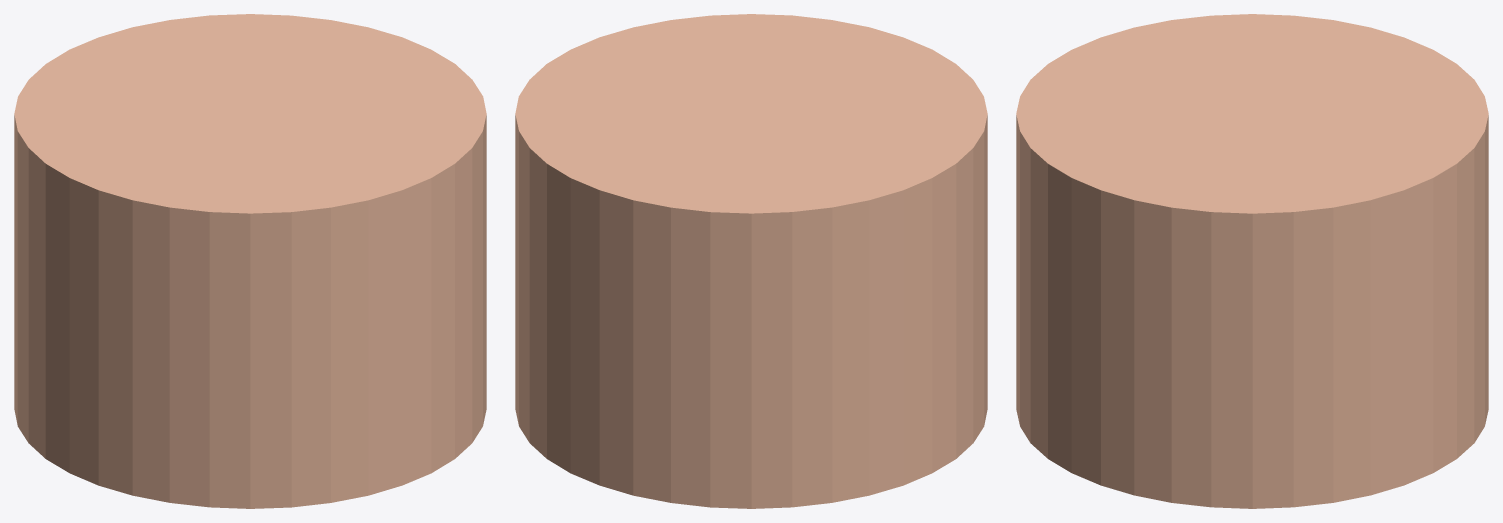
Rendered from workpiece-plastic.glb.
3 renders of one model, left to right at view 1: azimuth 30°, elevation 25°; view 2: azimuth 150°, elevation 25°; view 3: azimuth 270°, elevation 25°, orthographic.
Parts seen in each view (by area): view 1: PPWorker__go1083__mesh0; view 2: PPWorker__go1083__mesh0; view 3: PPWorker__go1083__mesh0.
Part boxes in pixels (<box>): PPWorker__go1083__mesh0: <box>14,14,486,508</box>; PPWorker__go1083__mesh0: <box>515,14,987,508</box>; PPWorker__go1083__mesh0: <box>1016,14,1488,508</box>.
Size of the model in its own units: 0.029 by 0.02 by 0.029.
